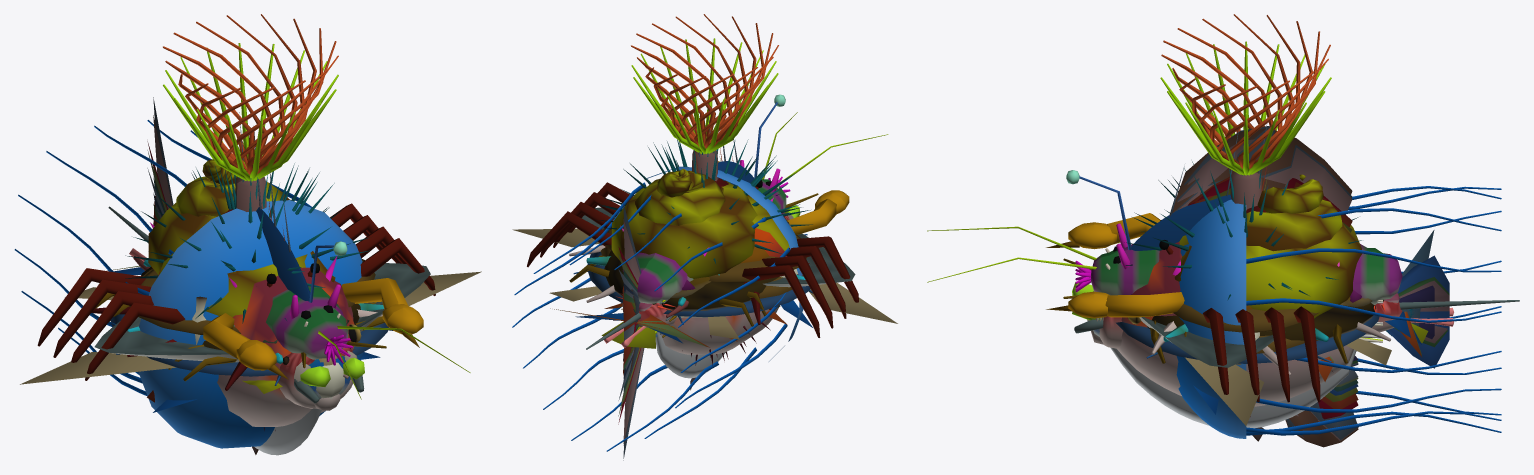
Rendered from creatures_shallows.glb.
3 renders of one model, left to right at view 1: azimuth 30°, elevation 25°; view 2: azimuth 150°, elevation 25°; view 3: azimuth 270°, elevation 25°, orthographic. The views are drawn at different scales.
Visible parts, largest first — view 1: sunhat_jelly, coralfall_carrion_crab, spire_christmas_worm, gilded_moss_snail, spireback_puffer, sun_fan_feather_duster, lagoon_manta_wing, sand_swallow_sea_cucumber, sunback_reef_turtle, armored_reef_tang, lagoon_spine_urchin, coral_crusher_leviathan (+11 smaller); view 2: gilded_moss_snail, coralfall_carrion_crab, sunhat_jelly, spire_christmas_worm, sunback_reef_turtle, sun_fan_feather_duster, spireback_puffer, sand_swallow_sea_cucumber, lagoon_spine_urchin, armored_reef_tang, sand_dollar_sifter, lagoon_manta_wing (+10 smaller); view 3: sunhat_jelly, gilded_moss_snail, coralfall_carrion_crab, spire_christmas_worm, armored_reef_tang, spireback_puffer, sand_swallow_sea_cucumber, sunback_reef_turtle, sun_fan_feather_duster, shimmer_surgeonfish, lagoon_manta_wing, sponge_mimic_angler (+10 smaller).
Boxes of the visible parts, <box> form: sunhat_jelly: <box>14,120,363,448</box>; coralfall_carrion_crab: <box>37,203,435,380</box>; spire_christmas_worm: <box>163,14,338,211</box>; gilded_moss_snail: <box>148,159,340,326</box>; spireback_puffer: <box>147,187,361,430</box>; sun_fan_feather_duster: <box>163,43,338,181</box>; lagoon_manta_wing: <box>94,206,430,403</box>; sand_swallow_sea_cucumber: <box>266,286,352,365</box>; sunback_reef_turtle: <box>20,267,481,384</box>; armored_reef_tang: <box>153,115,321,455</box>; lagoon_spine_urchin: <box>125,163,369,323</box>; coral_crusher_leviathan: <box>107,267,357,410</box>; gilded_moss_snail: <box>611,168,789,278</box>; coralfall_carrion_crab: <box>527,161,858,337</box>; sunhat_jelly: <box>512,166,805,451</box>; spire_christmas_worm: <box>631,14,778,181</box>; sunback_reef_turtle: <box>512,228,897,339</box>; sun_fan_feather_duster: <box>631,38,778,153</box>; spireback_puffer: <box>622,148,785,385</box>; sand_swallow_sea_cucumber: <box>637,176,790,303</box>; lagoon_spine_urchin: <box>596,139,812,264</box>; armored_reef_tang: <box>623,161,753,445</box>; sand_dollar_sifter: <box>587,244,810,317</box>; lagoon_manta_wing: <box>581,207,855,349</box>; sunhat_jelly: <box>1176,186,1501,438</box>; gilded_moss_snail: <box>1105,174,1361,318</box>; coralfall_carrion_crab: <box>1046,213,1320,402</box>; spire_christmas_worm: <box>1161,14,1330,209</box>; armored_reef_tang: <box>1110,128,1360,447</box>; spireback_puffer: <box>1117,166,1358,416</box>; sand_swallow_sea_cucumber: <box>1075,244,1402,304</box>; sunback_reef_turtle: <box>1093,291,1391,425</box>; sun_fan_feather_duster: <box>1160,41,1331,175</box>; shimmer_surgeonfish: <box>1177,139,1358,440</box>; lagoon_manta_wing: <box>1074,300,1519,367</box>; sponge_mimic_angler: <box>1066,170,1449,395</box>.
Size of the model in its own units: 1.7 by 1.49 by 1.95.
